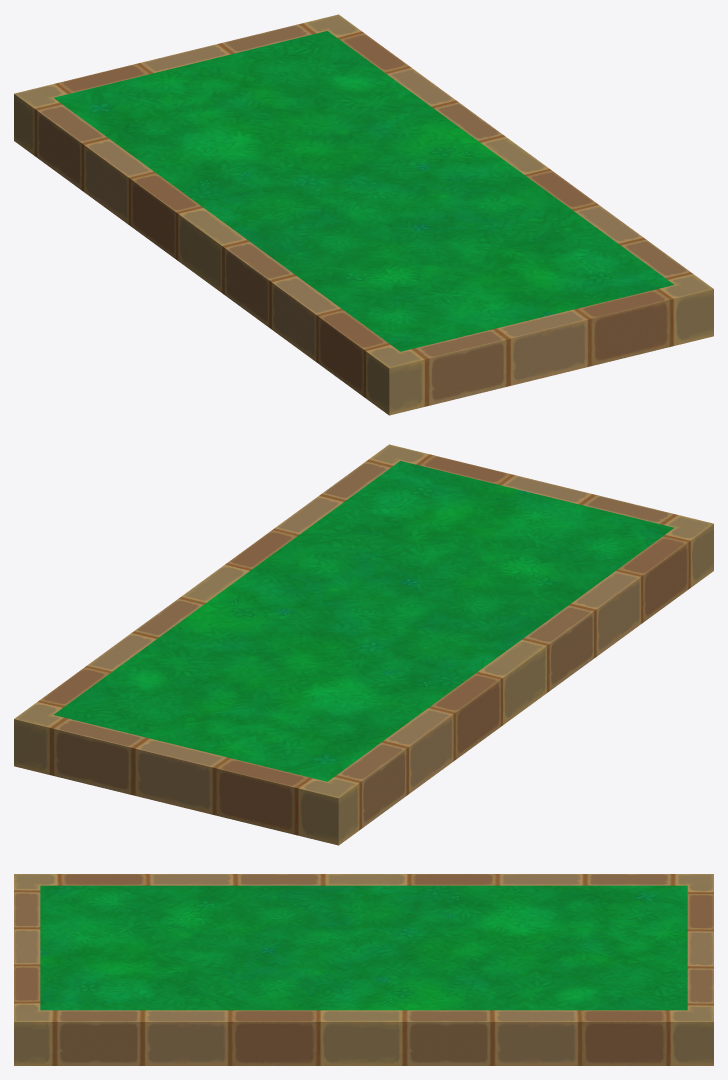
The model's file is Plant01_d05.FBX.
The picture shows the model from 3 angles, top to bottom: view 1: azimuth 30°, elevation 25°; view 2: azimuth 150°, elevation 25°; view 3: azimuth 270°, elevation 25°; orthographic projection. The views are drawn at different scales.
Visible parts, largest first — view 1: Plant01_d05; view 2: Plant01_d05; view 3: Plant01_d05.
Part boxes in pixels (x1,y1,x2,y2): Plant01_d05: (14,14,713,415); Plant01_d05: (14,444,713,845); Plant01_d05: (14,874,713,1065).
Bounding box in the file's own units: 339 × 47.09 × 678.
2 materials, 2 textured.
